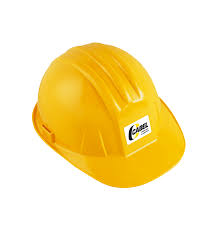Casco de seguridad: (30, 37, 189, 190)
